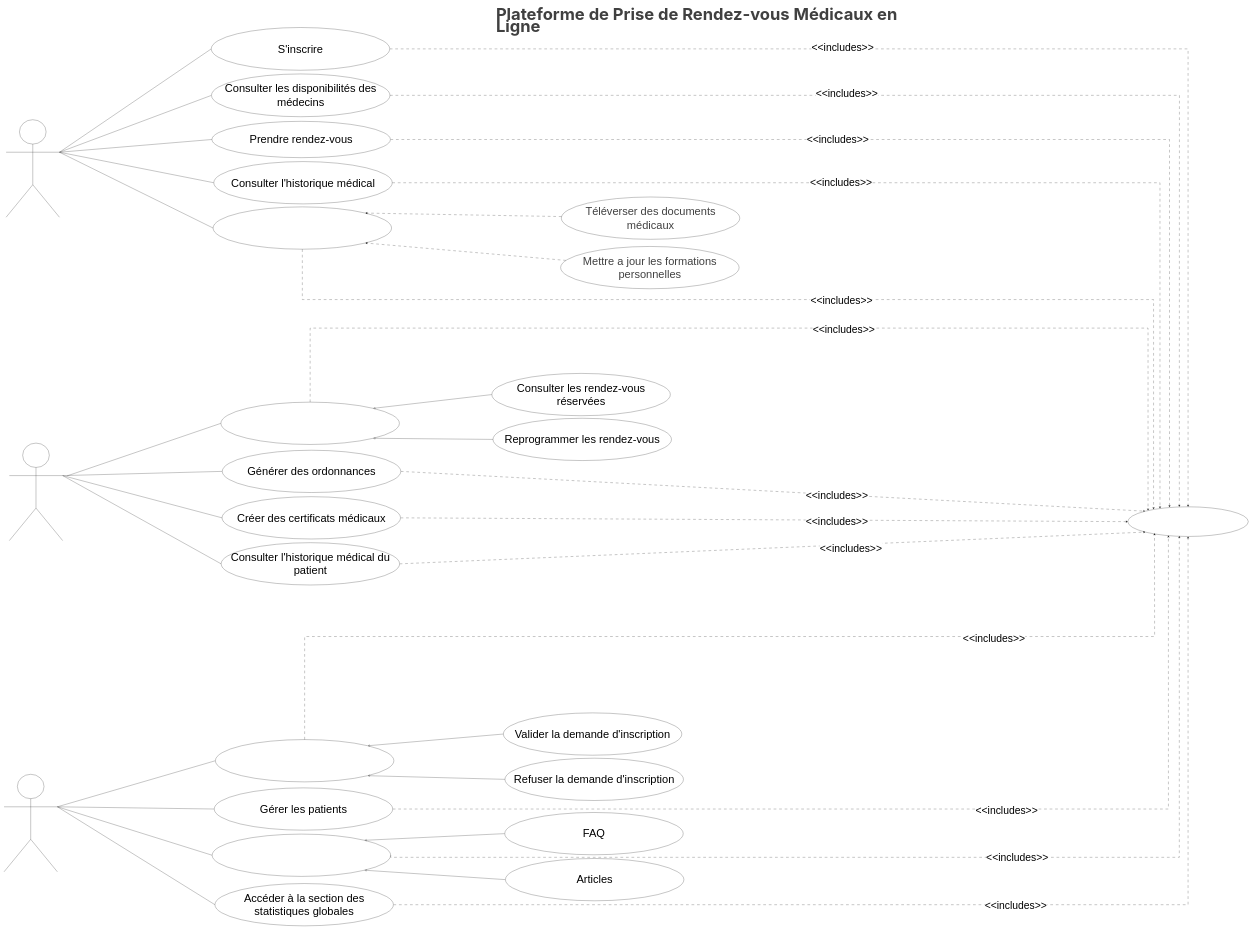
Image size: 1252x930. Some labels were removed from this diagram. The centre of each missing label's shape, as x and y in pixels:
"Admin" goes at point 30,823.
"Doctor" goes at point 36,492.
"Gérer dossier médical" goes at point 302,228.
"Gérer les comptes médecins" goes at point 304,760.
"Gérer les contenus" goes at point 301,855.
"Gérer les rendez-vous" goes at point 310,423.
"Patient" goes at point 32,168.
"Se connecter" goes at point 1188,521.
